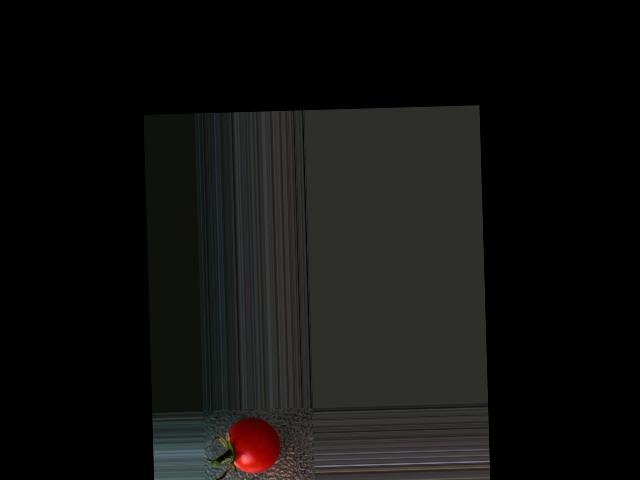tomato: (228, 417, 281, 475)
